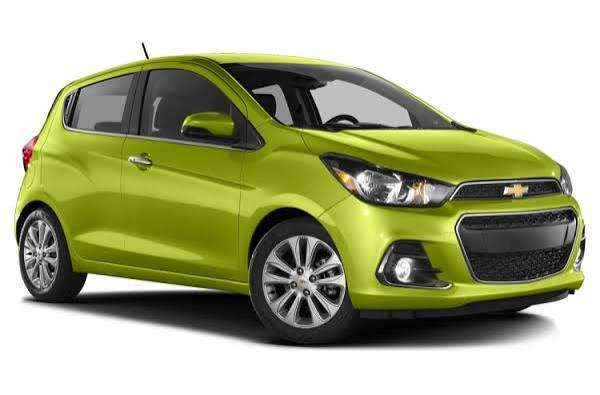car: (12, 56, 583, 333)
